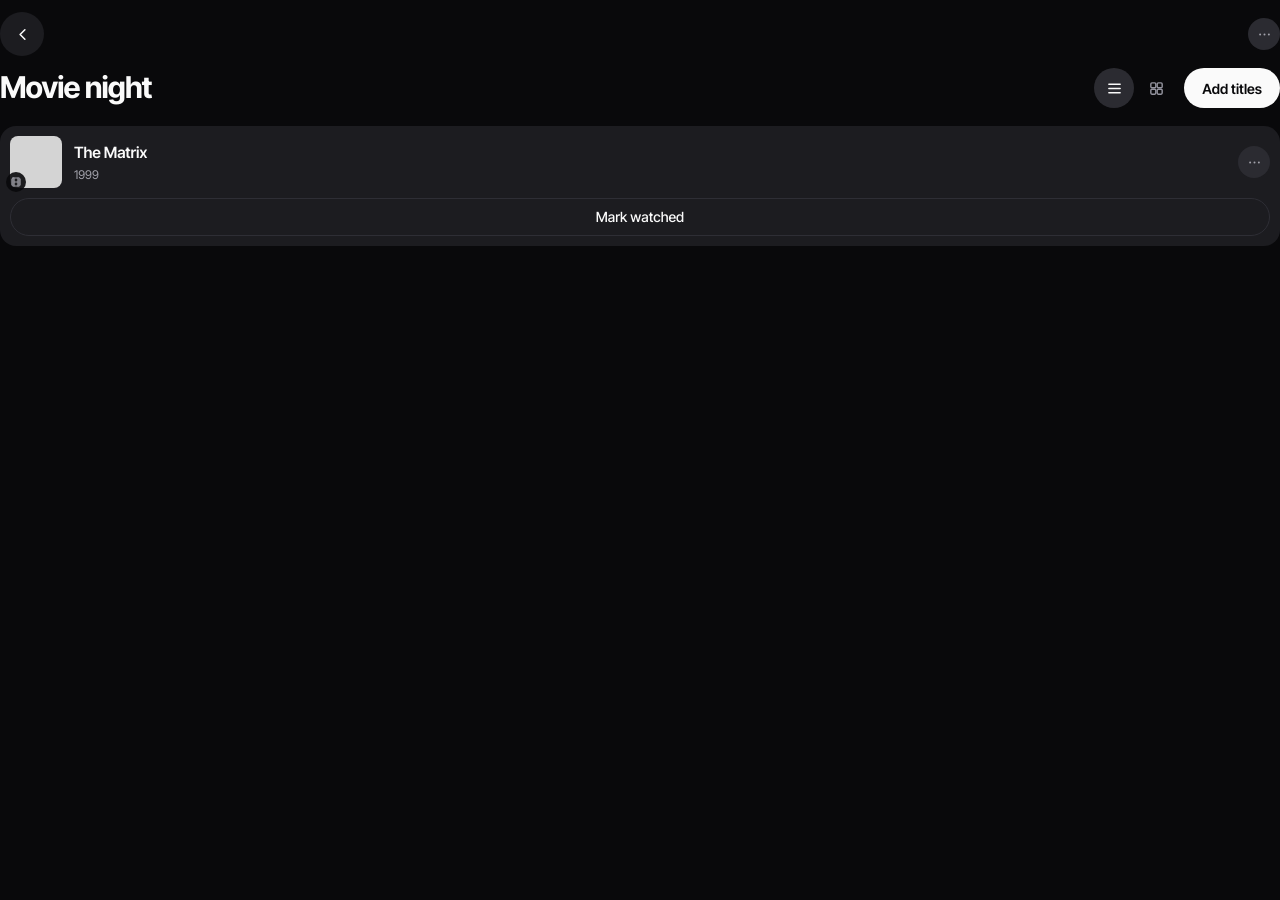
Test: list menu › can back out of deleting and shows a failure
Click the button named "List options".
click(1261, 34)  # box [1242,12,1279,56]
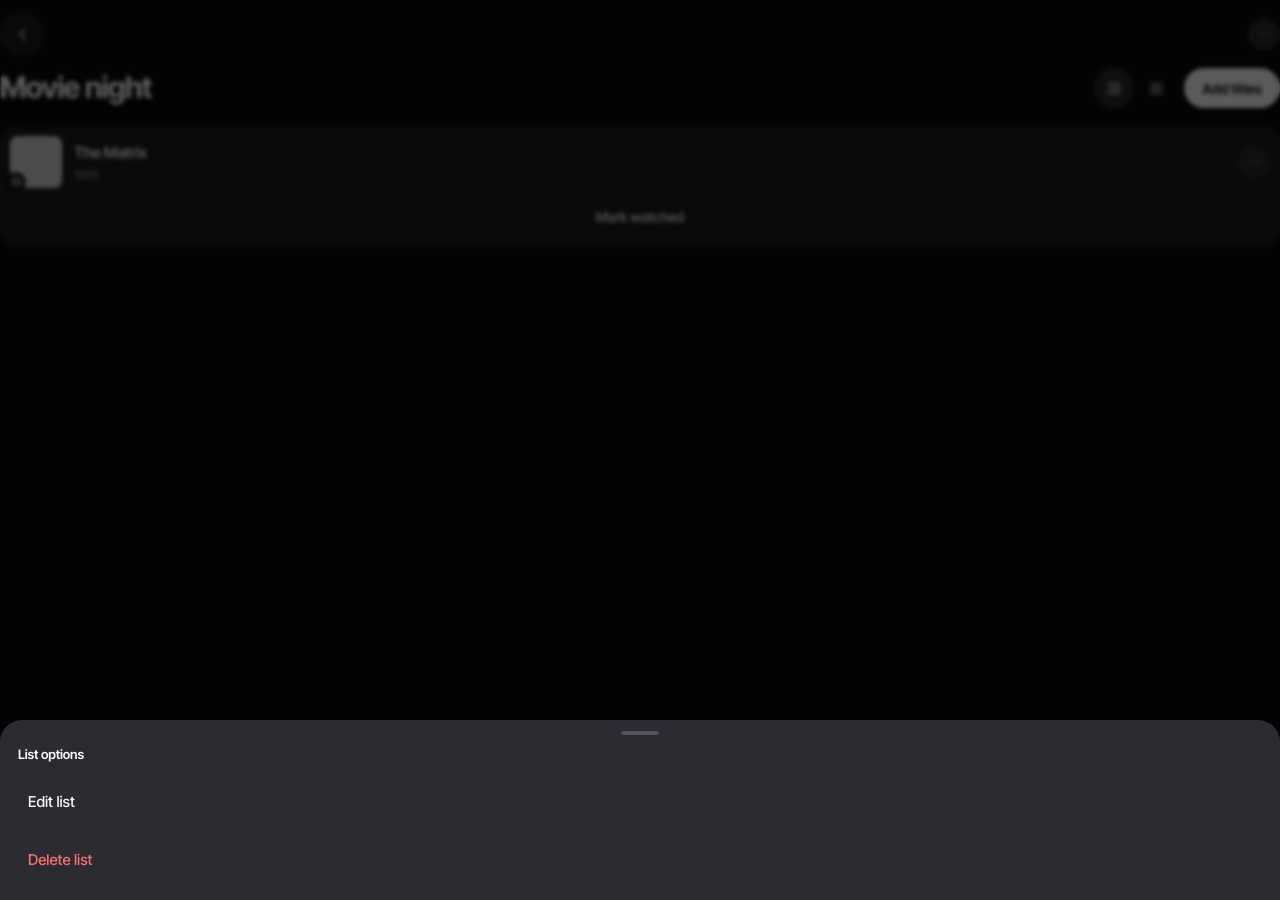
Click the button "Delete list".
click(60, 859)  # box [12,832,1268,888]
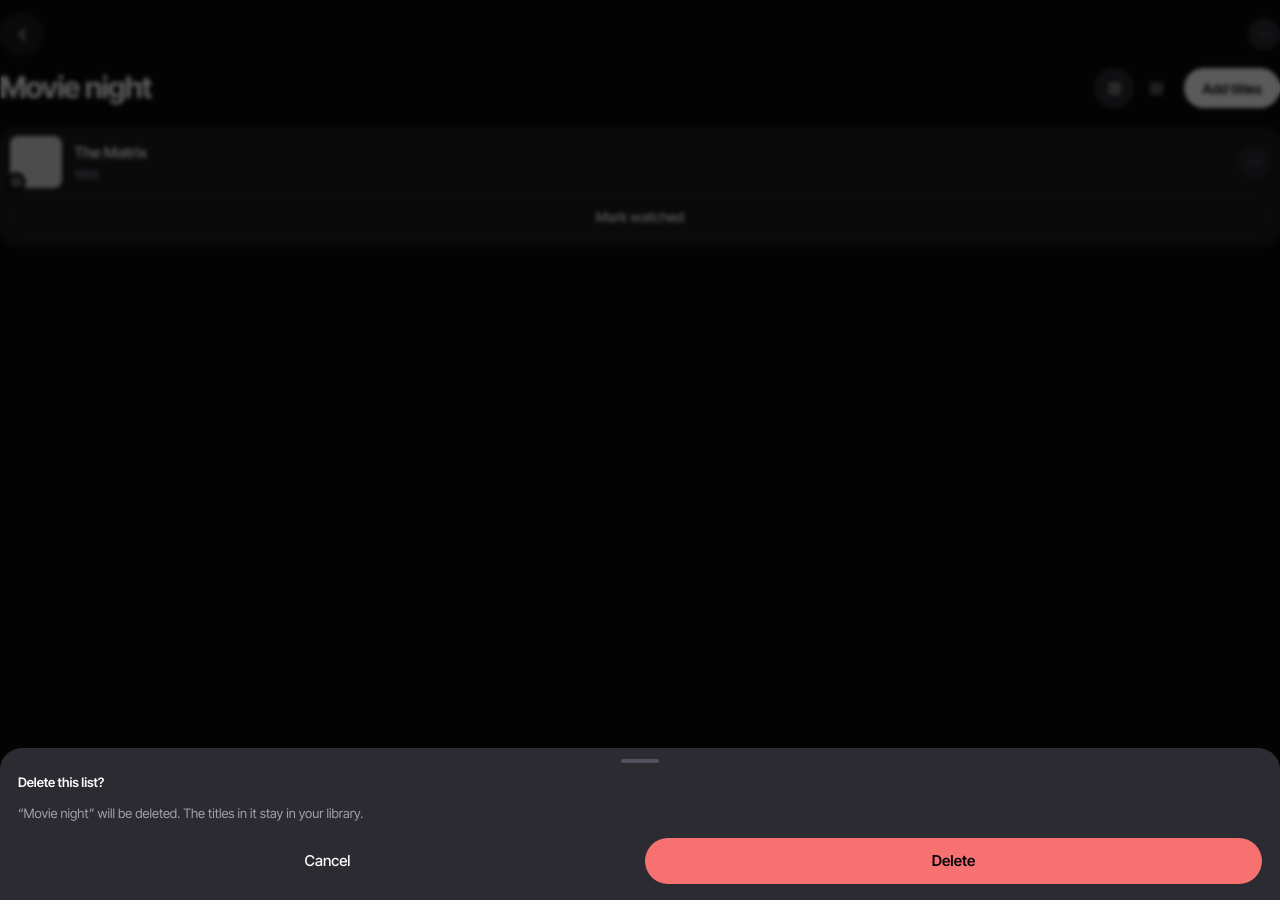
Click the button "Cancel".
click(328, 861)  # box [18,838,637,884]
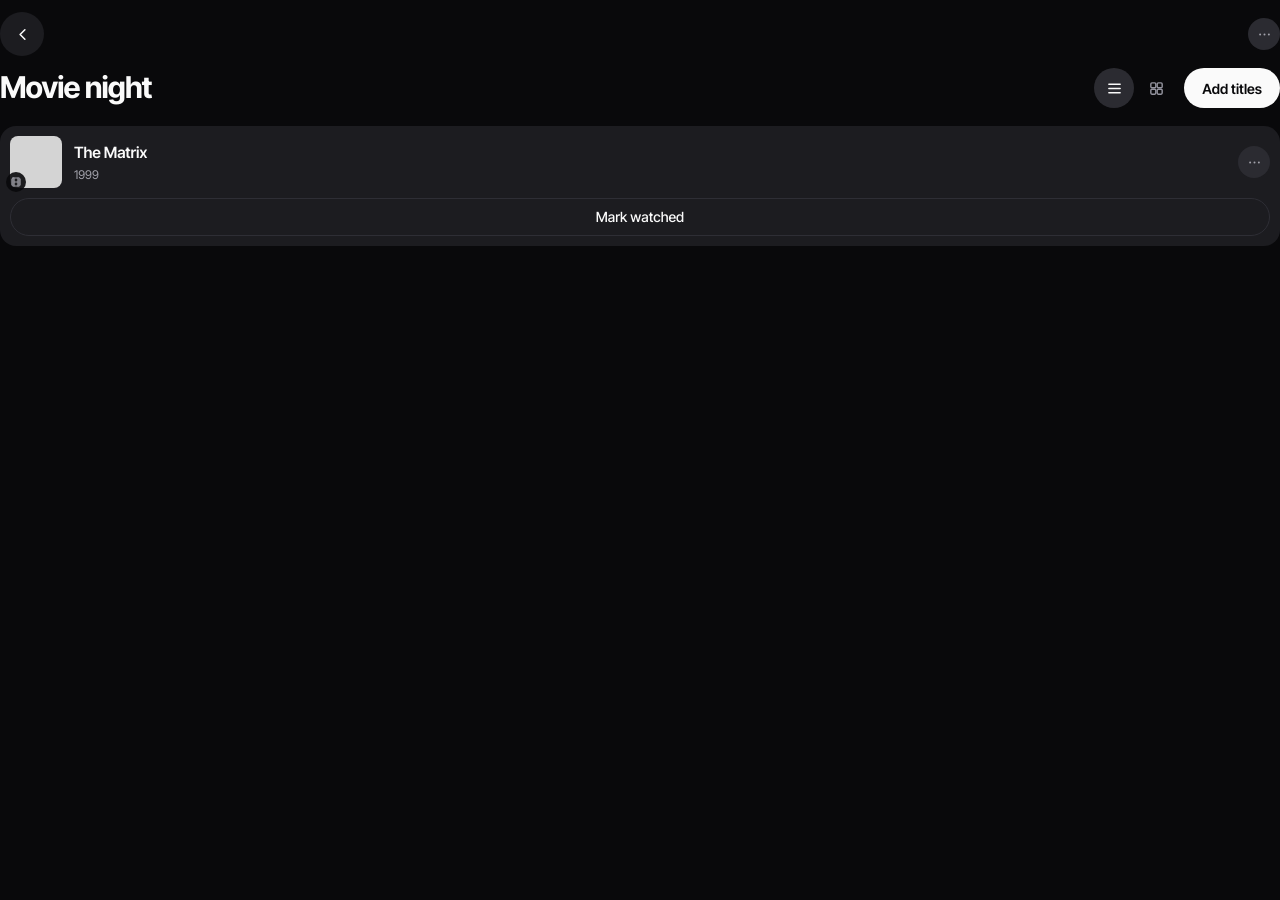
Click the button named "List options".
click(1261, 34)  # box [1242,12,1279,56]
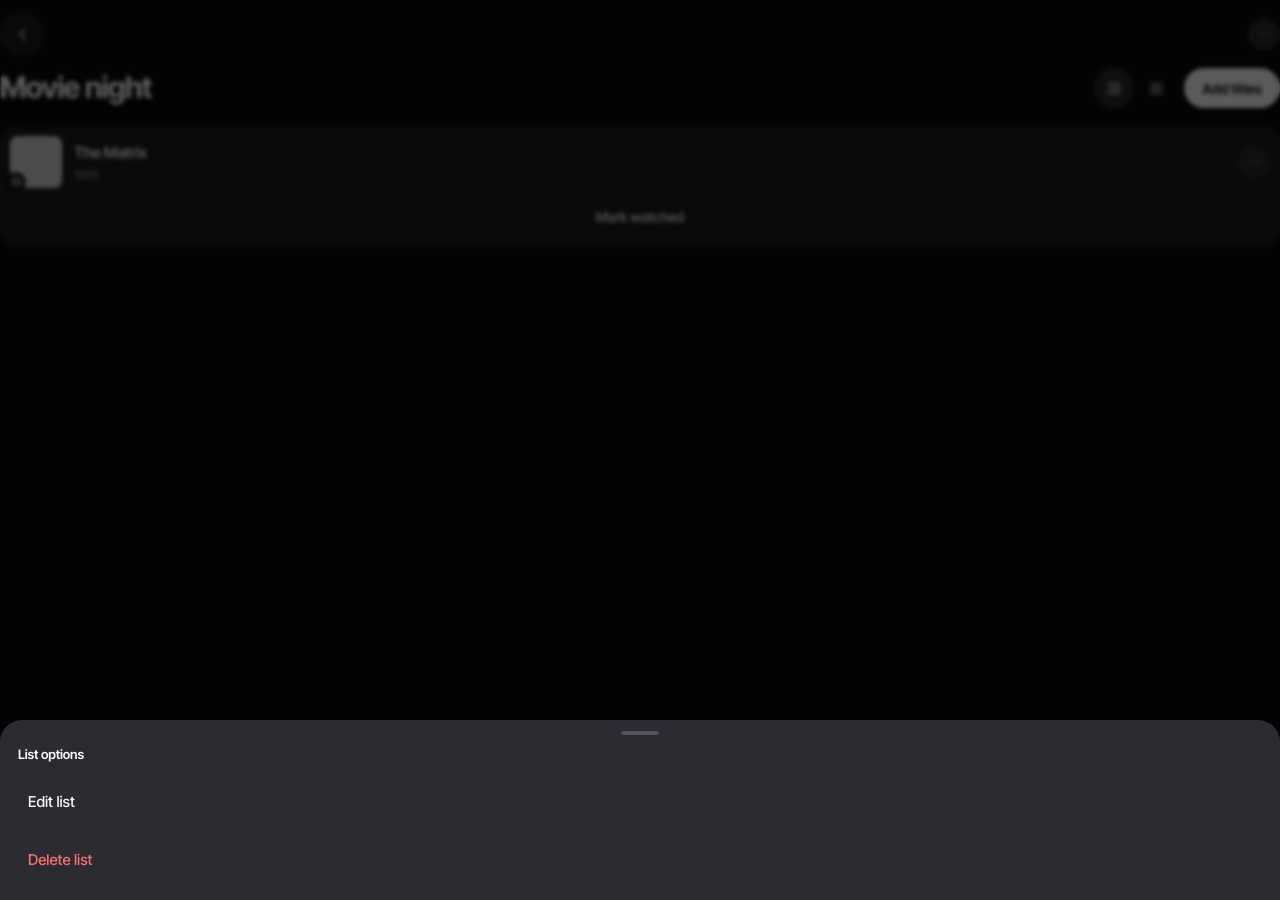
Click the button "Delete list".
click(60, 859)  # box [12,832,1268,888]
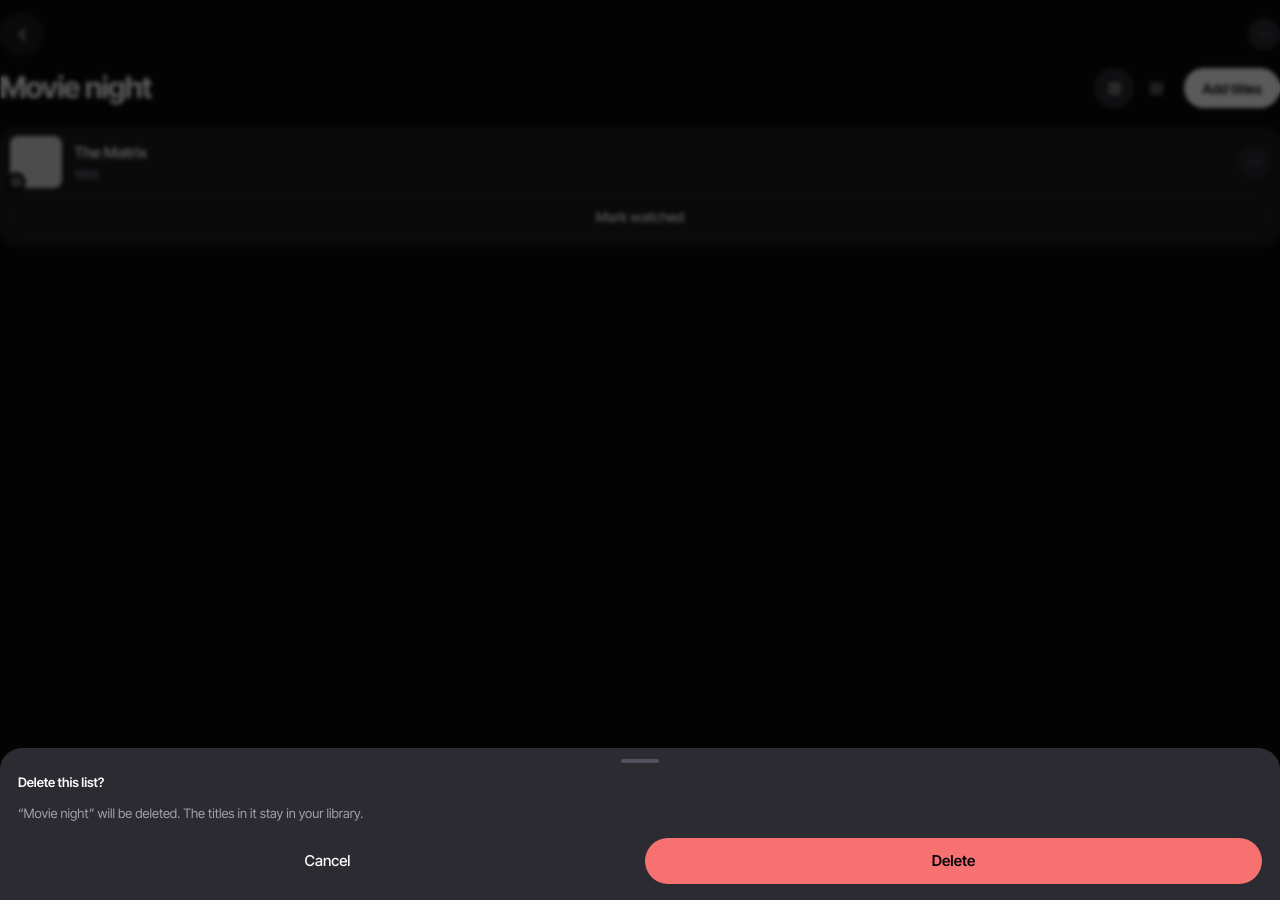
Click the button "Delete".
click(954, 861)  # box [645,838,1262,884]
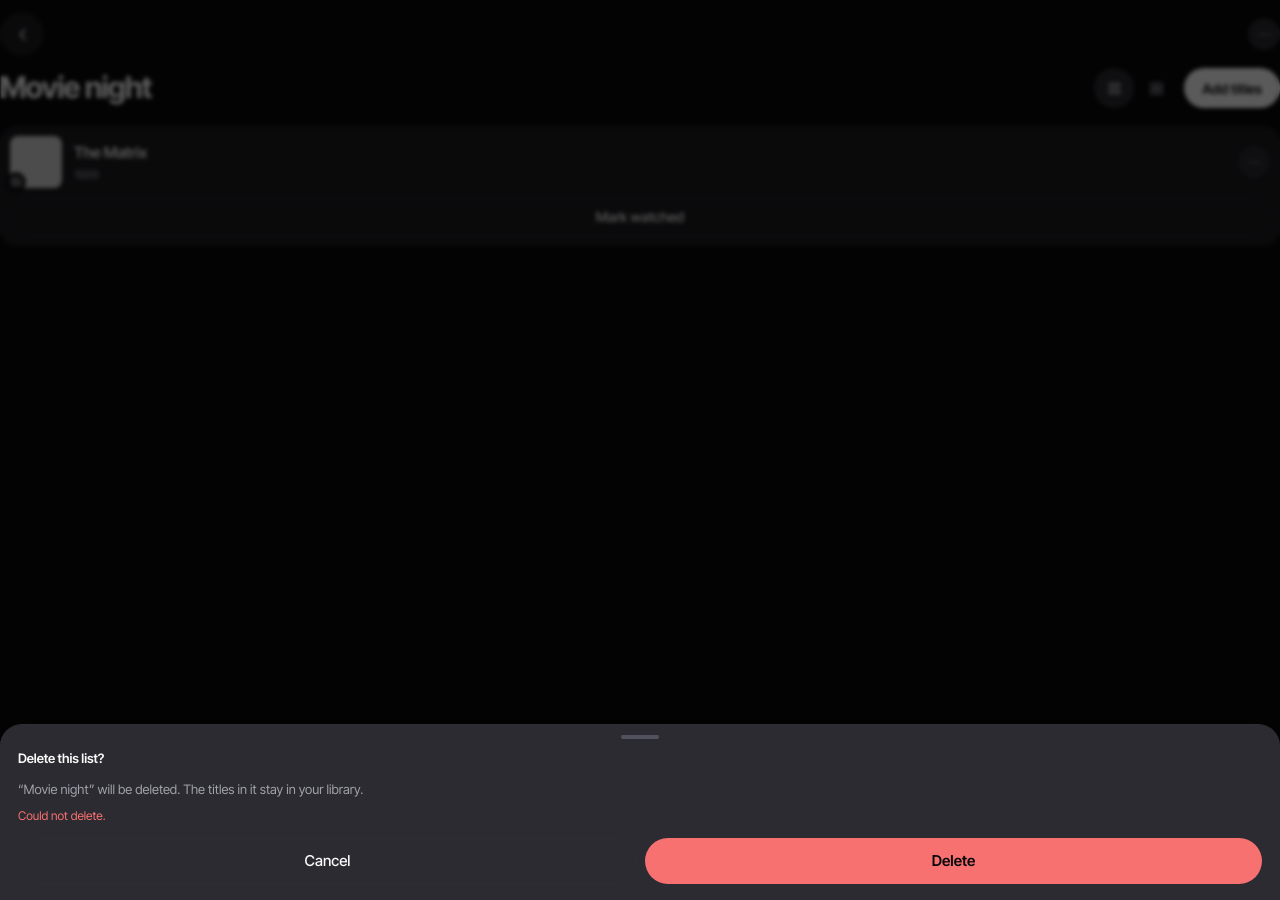
Expected: the button "Delete" is shown, [645,838,1262,884]
Expected: the message reads "Could not delete.", [18,808,106,823]
